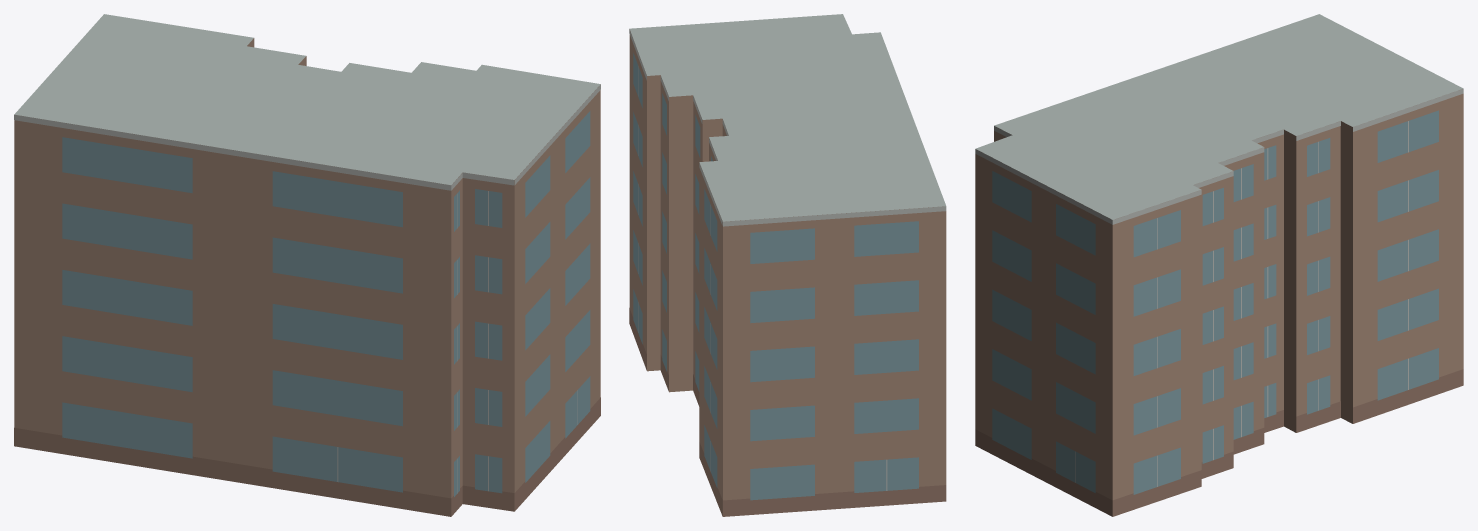
The model's file is survey-upis-33031180.glb.
The picture shows the model from 3 angles, left to right: view 1: azimuth 30°, elevation 25°; view 2: azimuth 150°, elevation 25°; view 3: azimuth 270°, elevation 25°; orthographic projection. The views are drawn at different scales.
Visible parts, largest first — view 1: survey-upis-33031180.tmp; view 2: survey-upis-33031180.tmp; view 3: survey-upis-33031180.tmp.
Part boxes in pixels (x1,y1,x2,y2): survey-upis-33031180.tmp: [14, 14, 600, 516]; survey-upis-33031180.tmp: [629, 14, 946, 516]; survey-upis-33031180.tmp: [975, 14, 1463, 516].
Bounding box in the file's own units: 21.72 × 14.6 × 21.77.
